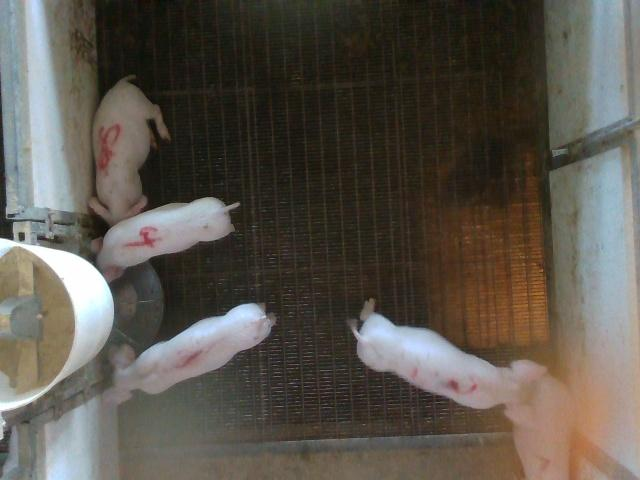pig-1: (104, 304, 275, 403)
pig-3: (350, 300, 546, 429)
pig-4: (96, 198, 239, 281)
pig-5: (89, 75, 170, 226)
